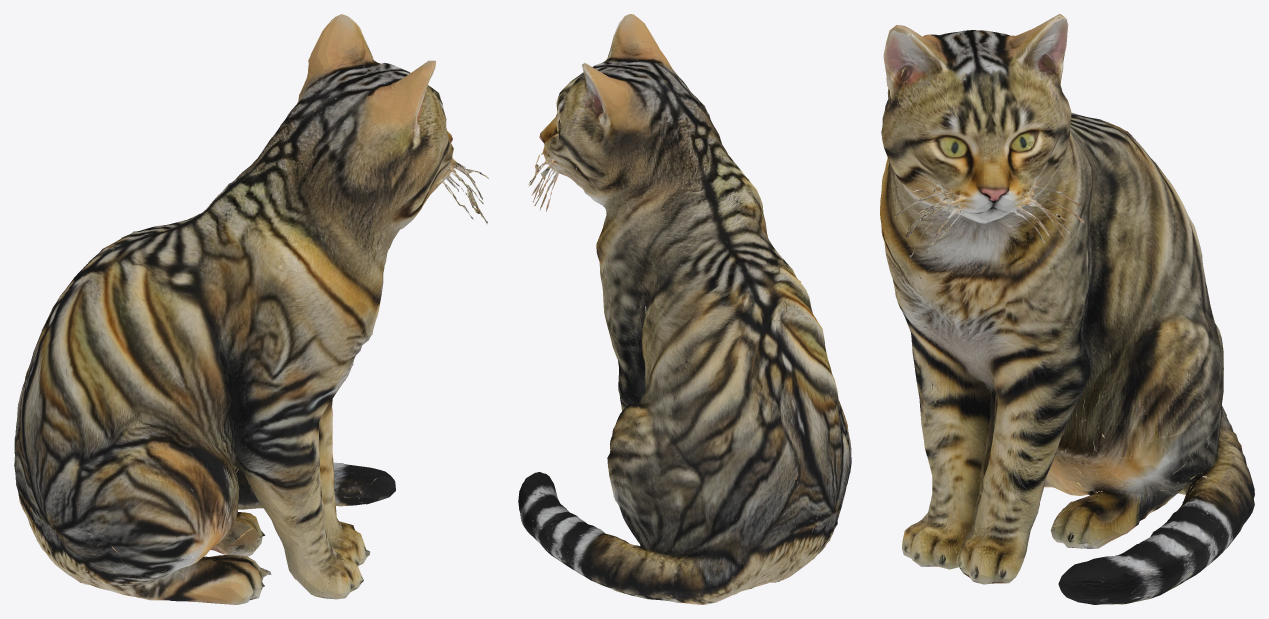
The model's file is cat.glb.
3 renders of one model, left to right at view 1: azimuth 30°, elevation 25°; view 2: azimuth 150°, elevation 25°; view 3: azimuth 270°, elevation 25°, orthographic. The views are drawn at different scales.
Bounding box in the file's own units: 0.7674 × 1 × 0.5889.
Materials: 1 (1 with a texture image).
